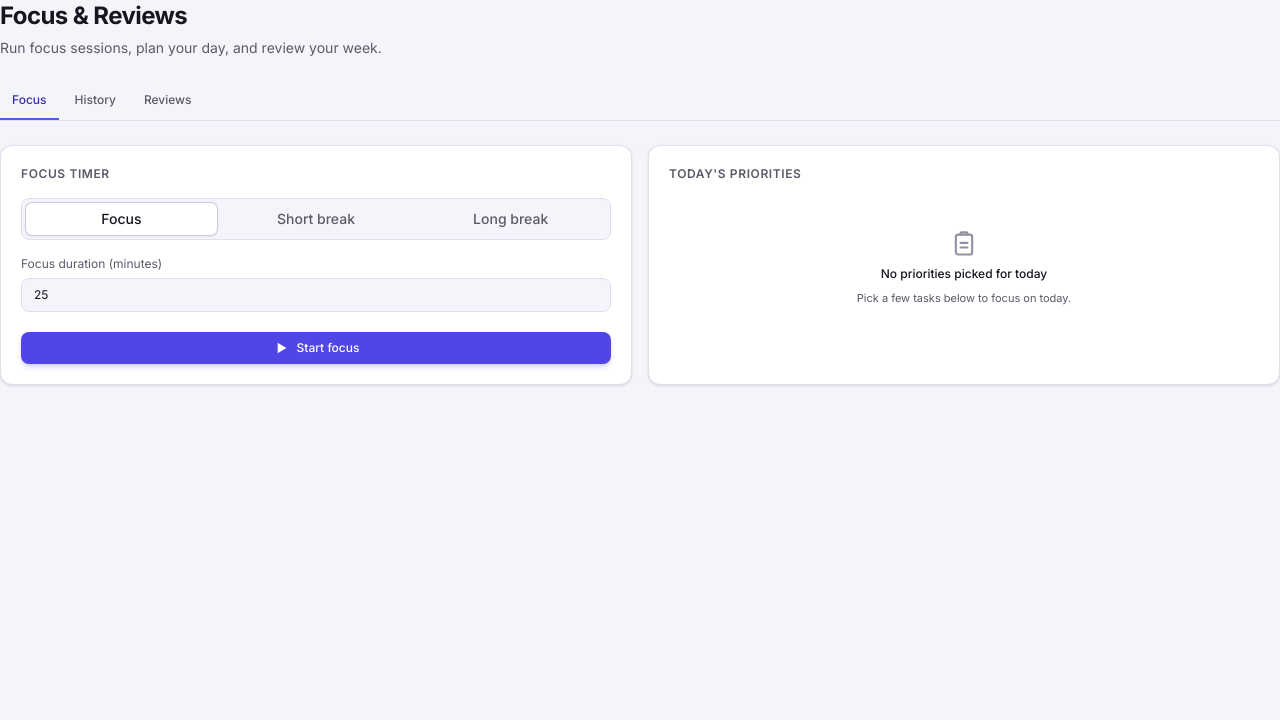
Test: FocusTab — timer › ends a session early after confirmation, recording it as interrupted
Click the button "Start focus" at (316, 348), box [21, 332, 611, 364]
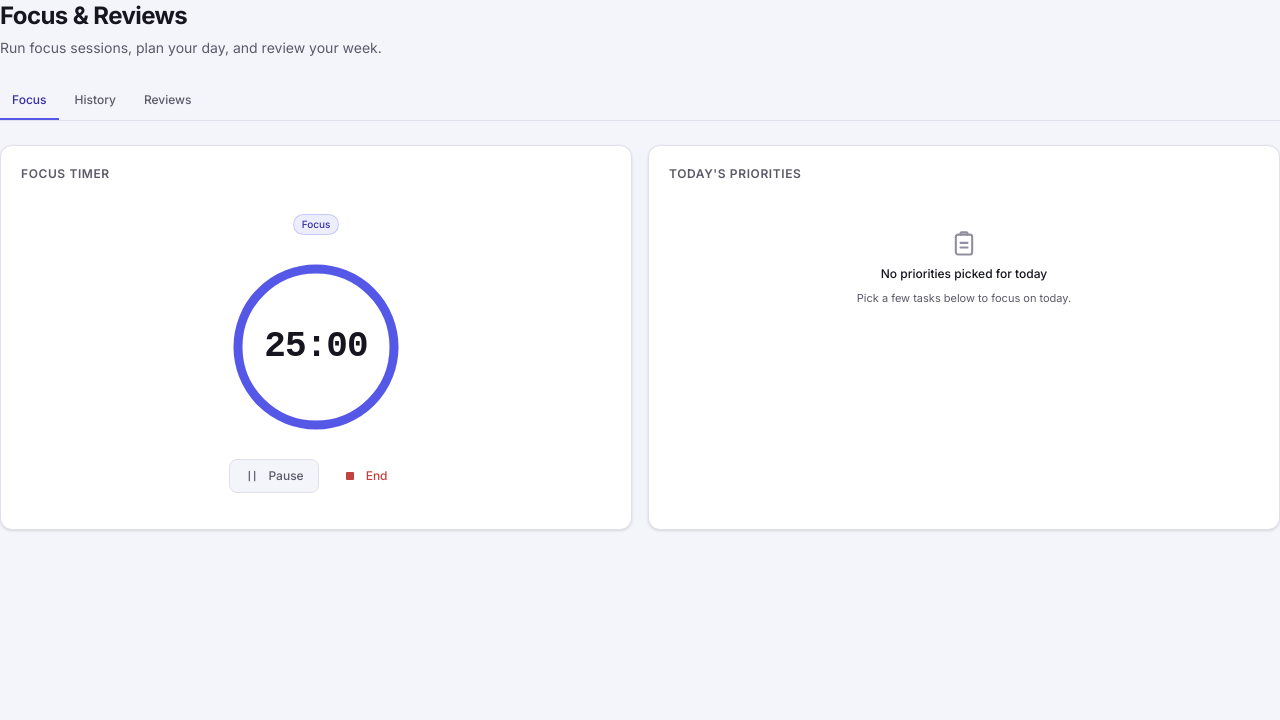
Now the button "Pause" is shown, box [230, 459, 319, 493]
Click the button "End" at (365, 476), box [327, 459, 403, 493]
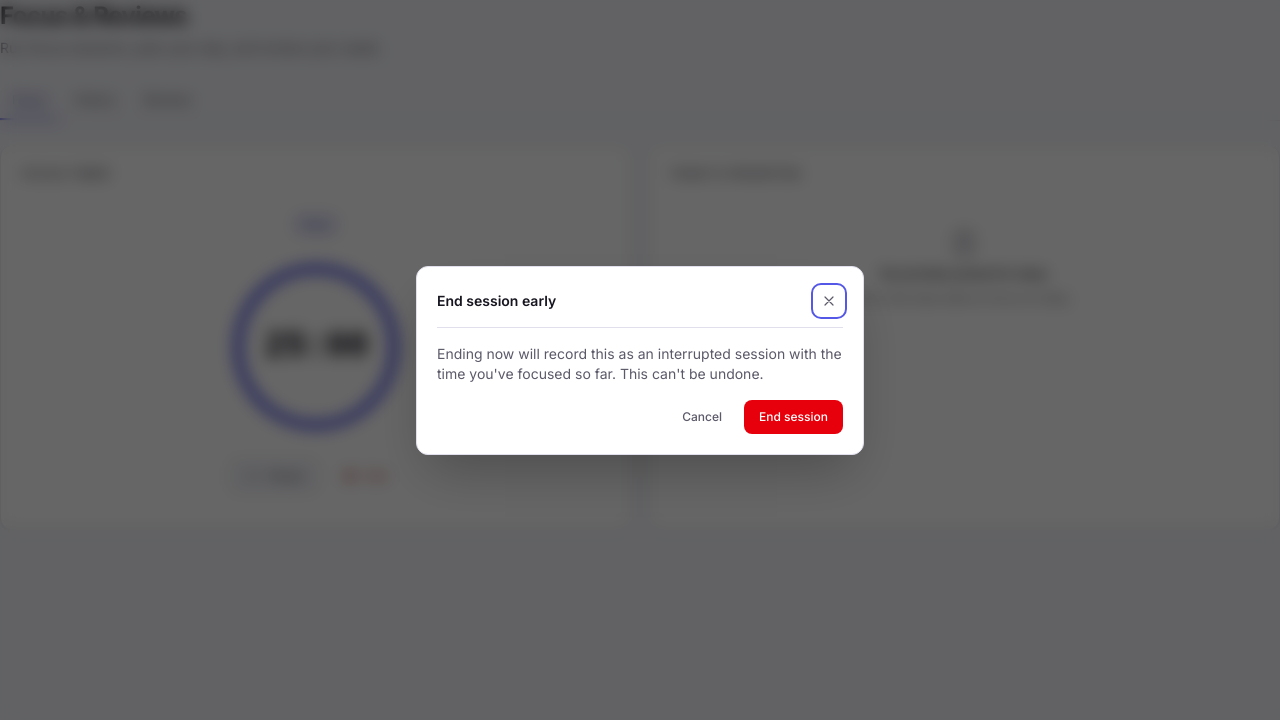
Click the button "End session" at (794, 416), box [744, 400, 843, 434]
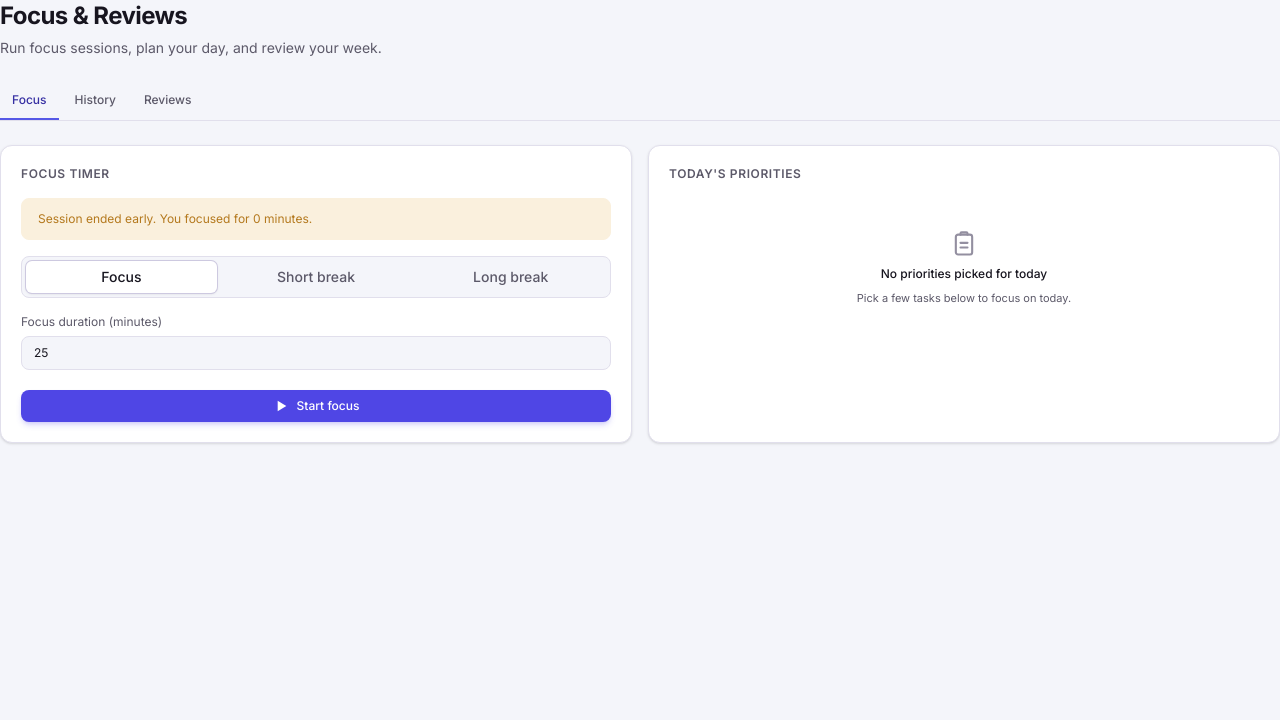
Now the text "Session ended early. You focused for 0 minutes." is shown, box [21, 198, 611, 240]
Now the button "Start focus" is shown, box [21, 390, 611, 422]
